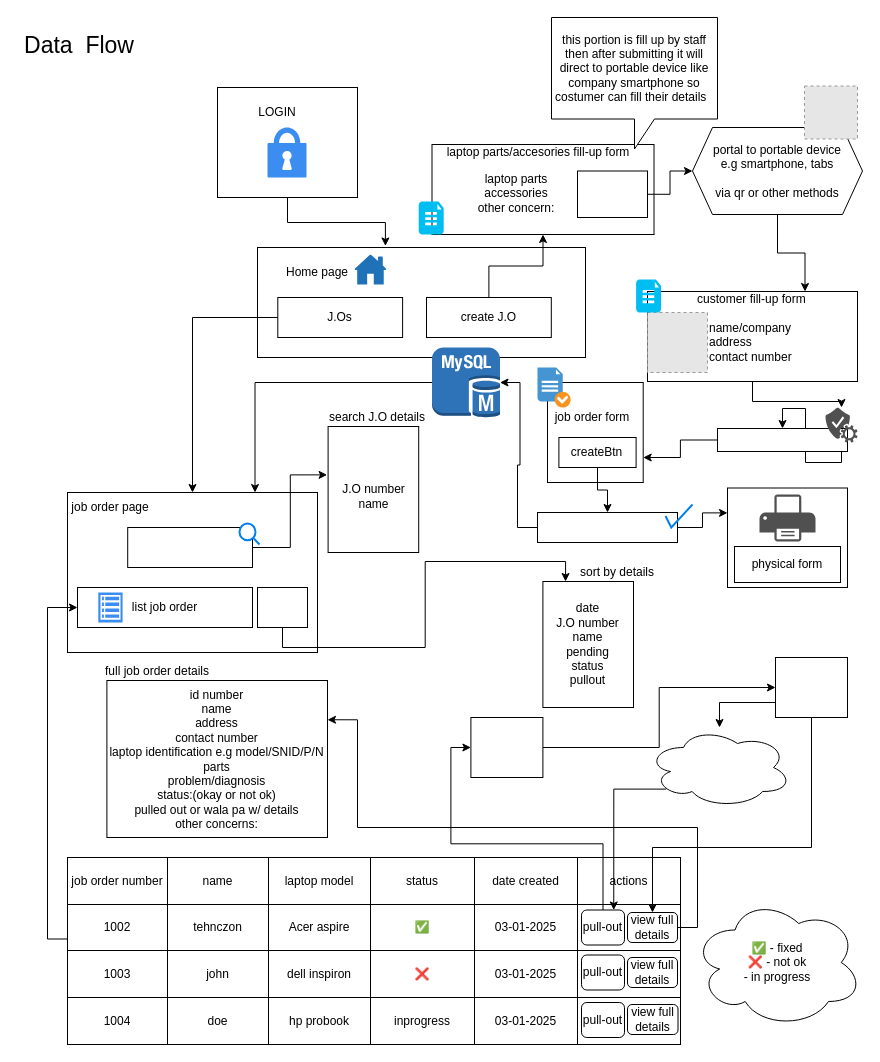
The diagram is 880 pixels wide and 1062 high, and some of its shapes have lost their labels. Grey dashed boxes stand in for pictures. Here are the shapes that lost their labels. From the top down, the box of each, then its label:
(576, 170, 648, 218): submit
(716, 428, 848, 452): terms and condition
(127, 526, 252, 568): search J.O
(536, 512, 678, 542): confirmation to create
(256, 586, 308, 628): sort by
(774, 656, 848, 718): confirm pullout
(470, 716, 543, 778): inser name sa nag pullout
(646, 726, 792, 808): if pulled out pull-outBtn - green
